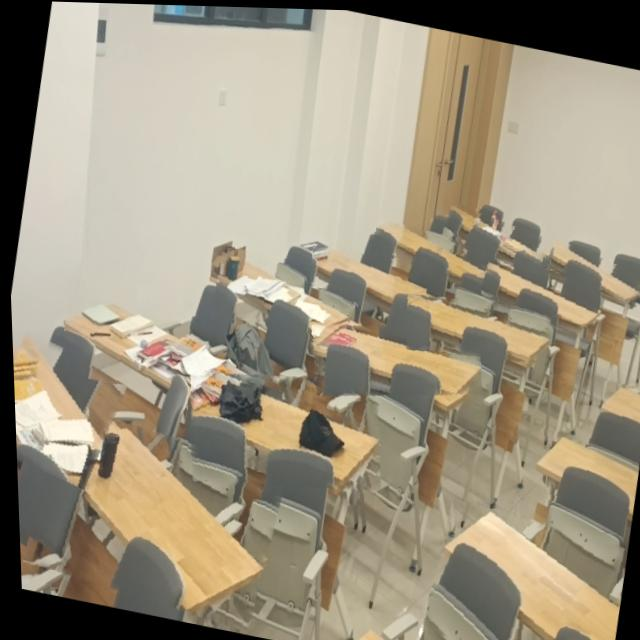Non-empty: (48, 423, 258, 612), (188, 373, 376, 487), (62, 303, 233, 396), (10, 331, 99, 467), (312, 323, 478, 392), (216, 249, 346, 334), (449, 203, 543, 267), (309, 247, 424, 299)
empty: (438, 507, 613, 640), (405, 294, 548, 358), (533, 429, 635, 511), (483, 258, 595, 321), (375, 219, 483, 279), (550, 235, 637, 299), (599, 380, 640, 426)
